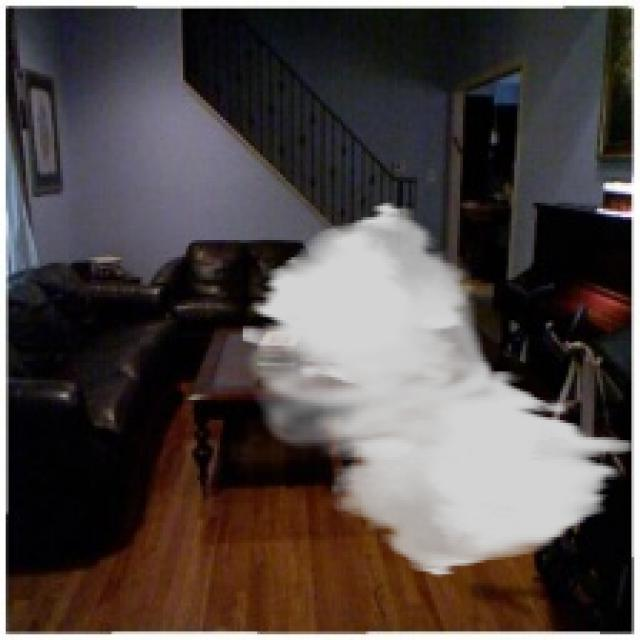smoke: (240, 200, 631, 577)
